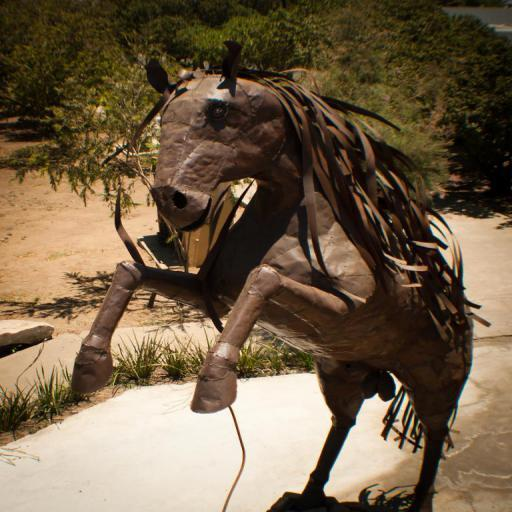horse: (72, 39, 492, 512)
